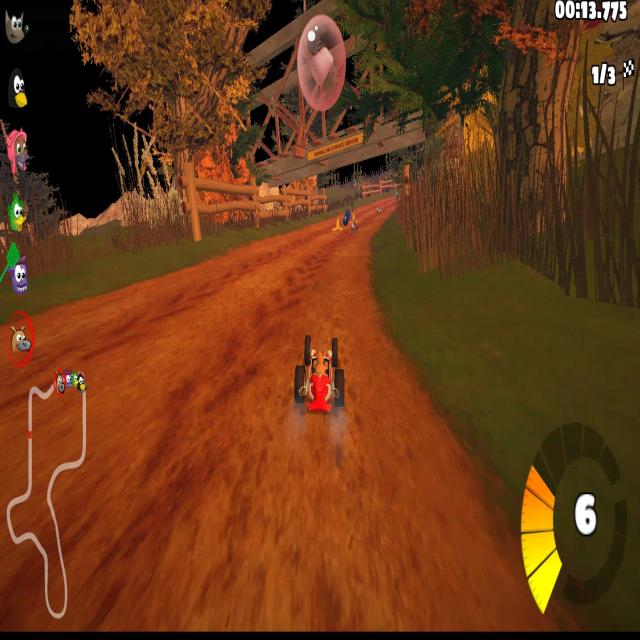obstacle: (329, 212, 344, 240)
player_kart: (284, 328, 348, 412)
track: (0, 320, 285, 630), (286, 466, 505, 630), (350, 312, 423, 470), (183, 266, 378, 312), (120, 272, 183, 322), (269, 236, 371, 264), (210, 247, 275, 270), (367, 194, 402, 212), (314, 219, 331, 238), (361, 207, 368, 243), (368, 216, 389, 224)
